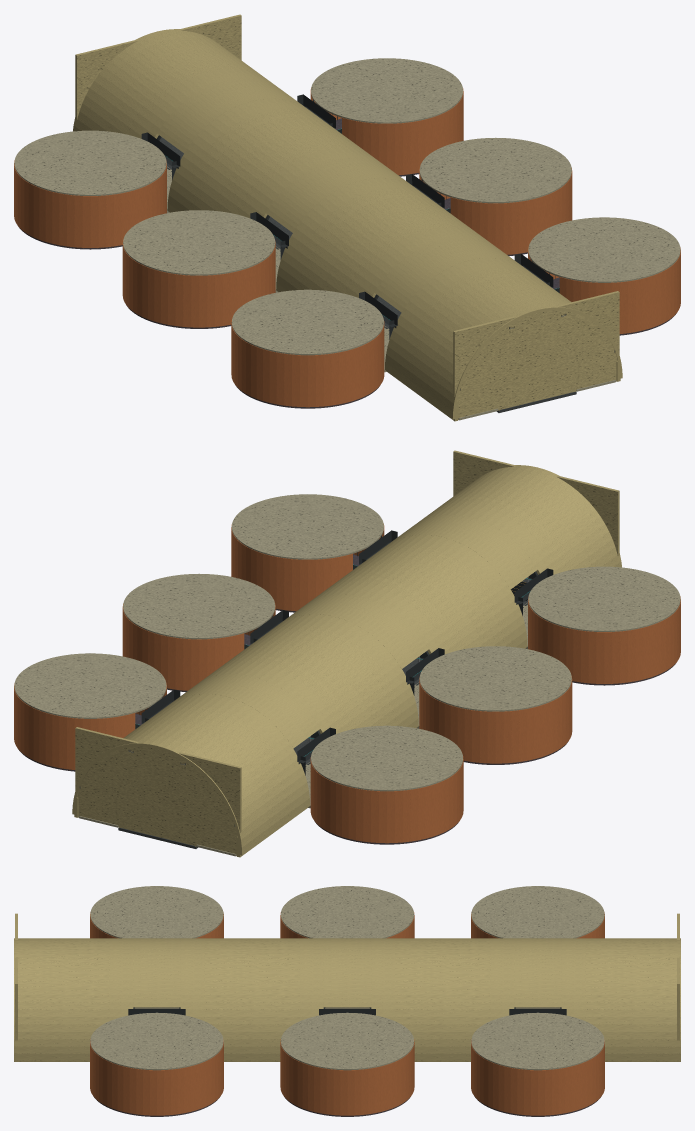
Rendered from LobbyReimaginedPreview.fbx.
3 renders of one model, top to bottom at view 1: azimuth 30°, elevation 25°; view 2: azimuth 150°, elevation 25°; view 3: azimuth 270°, elevation 25°, orthographic. The views are drawn at different scales.
Visible parts, largest first — view 1: LRP_FBX_0153_QueueRoom.003, LRP_FBX_0138_QueueRoom.002, LRP_FBX_0123_QueueRoom.001, LRP_FBX_0252_EndBackstop.001, LRP_FBX_0183_QueueRoom.005, LRP_FBX_0168_QueueRoom.004, LRP_FBX_0198_QueueRoom.006, LRP_FBX_0000_PlainShell.001, LRP_FBX_0004_PlainShell.003, LRP_FBX_0002_PlainShell.002, LRP_FBX_0006_PlainShell.004, LRP_FBX_0001_PortalShell.001 (+3 smaller); view 2: LRP_FBX_0123_QueueRoom.001, LRP_FBX_0138_QueueRoom.002, LRP_FBX_0153_QueueRoom.003, LRP_FBX_0253_EndBackstop.002, LRP_FBX_0183_QueueRoom.005, LRP_FBX_0198_QueueRoom.006, LRP_FBX_0168_QueueRoom.004, LRP_FBX_0006_PlainShell.004, LRP_FBX_0002_PlainShell.002, LRP_FBX_0004_PlainShell.003, LRP_FBX_0000_PlainShell.001, LRP_FBX_0005_PortalShell.003 (+3 smaller); view 3: LRP_FBX_0183_QueueRoom.005, LRP_FBX_0168_QueueRoom.004, LRP_FBX_0198_QueueRoom.006, LRP_FBX_0000_PlainShell.001, LRP_FBX_0006_PlainShell.004, LRP_FBX_0002_PlainShell.002, LRP_FBX_0004_PlainShell.003, LRP_FBX_0001_PortalShell.001, LRP_FBX_0005_PortalShell.003, LRP_FBX_0003_PortalShell.002, LRP_FBX_0138_QueueRoom.002, LRP_FBX_0123_QueueRoom.001 (+1 smaller).
Part boxes in pixels (x1,y1,x2,y2): LRP_FBX_0153_QueueRoom.003: (231,289,384,408); LRP_FBX_0138_QueueRoom.002: (122,210,275,328); LRP_FBX_0123_QueueRoom.001: (14,130,166,249); LRP_FBX_0252_EndBackstop.001: (453,291,619,419); LRP_FBX_0183_QueueRoom.005: (419,137,572,256); LRP_FBX_0168_QueueRoom.004: (310,58,463,176); LRP_FBX_0198_QueueRoom.006: (528,217,680,335); LRP_FBX_0000_PlainShell.001: (398,268,622,421); LRP_FBX_0004_PlainShell.003: (181,108,373,216); LRP_FBX_0002_PlainShell.002: (290,188,482,296); LRP_FBX_0006_PlainShell.004: (73,29,264,136); LRP_FBX_0001_PortalShell.001: (354,228,537,381); LRP_FBX_0123_QueueRoom.001: (310,725,463,844); LRP_FBX_0138_QueueRoom.002: (419,646,572,764); LRP_FBX_0153_QueueRoom.003: (528,566,680,685); LRP_FBX_0253_EndBackstop.002: (75,727,241,855); LRP_FBX_0183_QueueRoom.005: (122,573,275,692); LRP_FBX_0198_QueueRoom.006: (231,494,384,612); LRP_FBX_0168_QueueRoom.004: (14,653,166,771); LRP_FBX_0006_PlainShell.004: (72,704,296,857); LRP_FBX_0002_PlainShell.002: (321,544,513,652); LRP_FBX_0004_PlainShell.003: (212,624,404,732); LRP_FBX_0000_PlainShell.001: (430,465,621,572); LRP_FBX_0005_PortalShell.003: (157,664,340,817); LRP_FBX_0183_QueueRoom.005: (280,1012,414,1116); LRP_FBX_0168_QueueRoom.004: (471,1012,604,1116); LRP_FBX_0198_QueueRoom.006: (90,1012,223,1116); LRP_FBX_0000_PlainShell.001: (14,938,109,1061); LRP_FBX_0006_PlainShell.004: (585,938,680,1061); LRP_FBX_0002_PlainShell.002: (204,938,299,1061); LRP_FBX_0004_PlainShell.003: (395,938,490,1061); LRP_FBX_0001_PortalShell.001: (109,938,204,1020); LRP_FBX_0005_PortalShell.003: (490,938,585,1020); LRP_FBX_0003_PortalShell.002: (300,938,394,1020); LRP_FBX_0138_QueueRoom.002: (280,886,414,938); LRP_FBX_0123_QueueRoom.001: (471,886,604,938).
Bounding box in the file's own units: 18230 × 3810 × 28011.
1 material, 1 textured.
